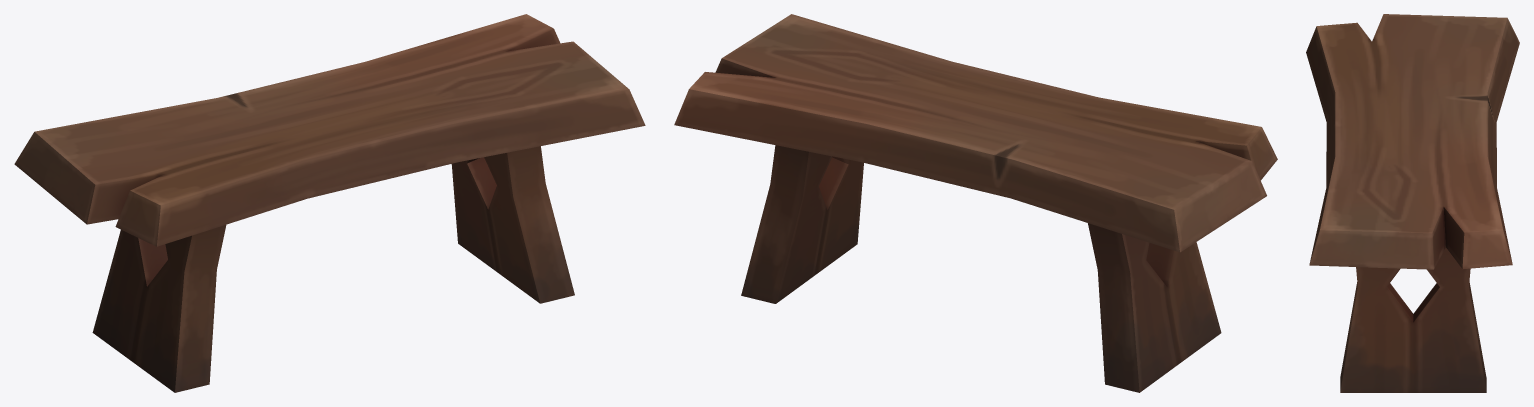
Rendered from bench.fbx.
3 renders of one model, left to right at view 1: azimuth 30°, elevation 25°; view 2: azimuth 150°, elevation 25°; view 3: azimuth 270°, elevation 25°, orthographic. The views are drawn at different scales.
Parts seen in each view (by area): view 1: bench; view 2: bench; view 3: bench.
Part boxes in pixels (<box>): bench: <box>14,14,645,392</box>; bench: <box>674,14,1277,392</box>; bench: <box>1306,14,1519,392</box>.
Bounding box in the file's own units: 166 × 60.91 × 65.15.
